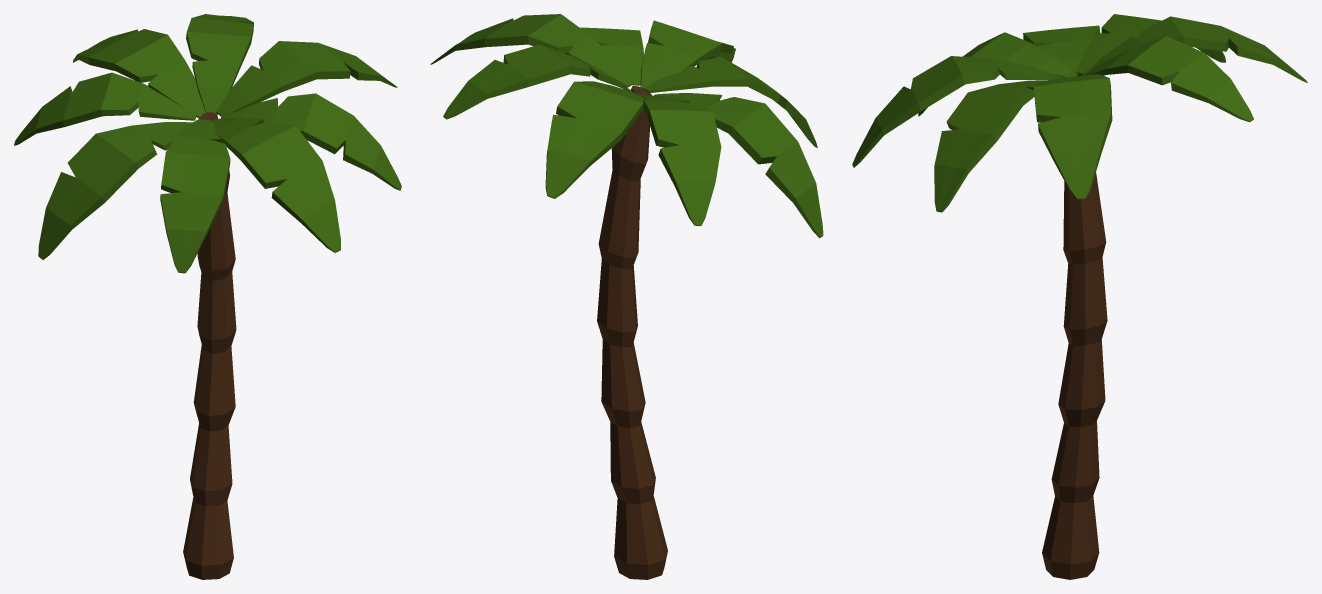
Rendered from palmTree1.fbx.
3 renders of one model, left to right at view 1: azimuth 30°, elevation 25°; view 2: azimuth 150°, elevation 25°; view 3: azimuth 270°, elevation 25°, orthographic. The views are drawn at different scales.
Parts seen in each view (by area): view 1: Cylinder.005; view 2: Cylinder.005; view 3: Cylinder.005.
Boxes of the visible parts, box(x1,y1,x2,y2) form: Cylinder.005: box(14, 14, 401, 579); Cylinder.005: box(430, 14, 823, 579); Cylinder.005: box(852, 14, 1307, 579).
Size of the model in its own units: 372 by 493 by 373.
